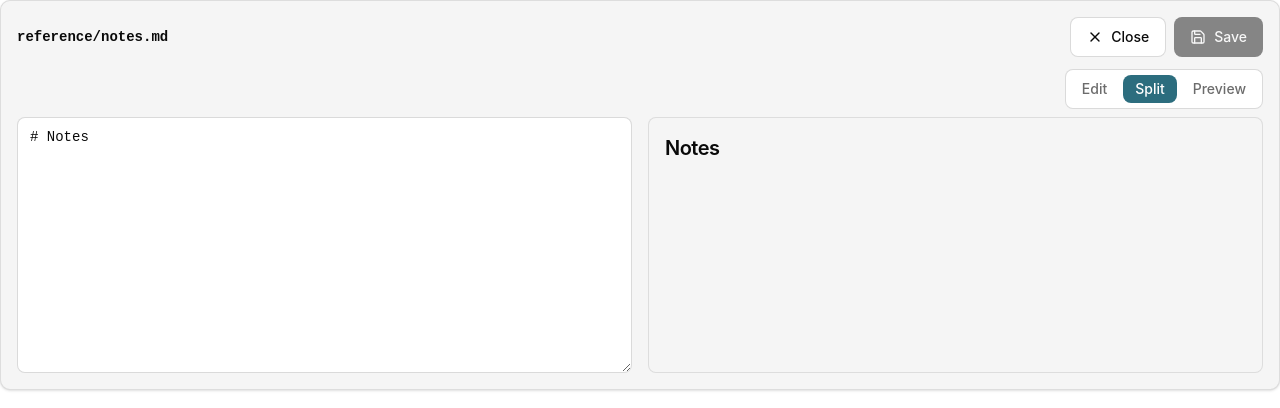
Test: SupportingFileEditor › writes the file and is clean once the write succeeds
The image size is (1280, 408).
Type "!" into the text box named "reference/notes.md".
click(324, 245); type("!")  # box x1=17 y1=117 x2=632 y2=373
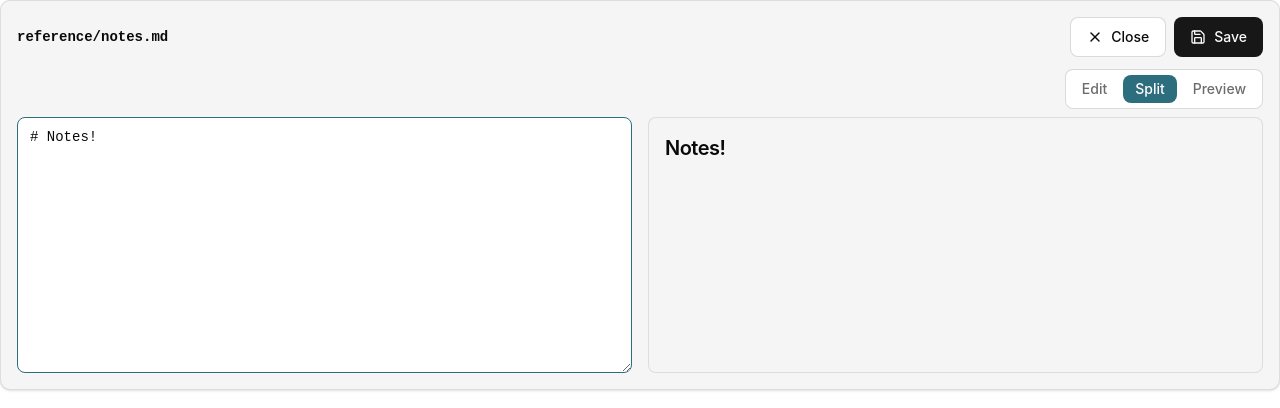
Click the button "Save".
click(1219, 37)  # box x1=1174 y1=17 x2=1263 y2=57
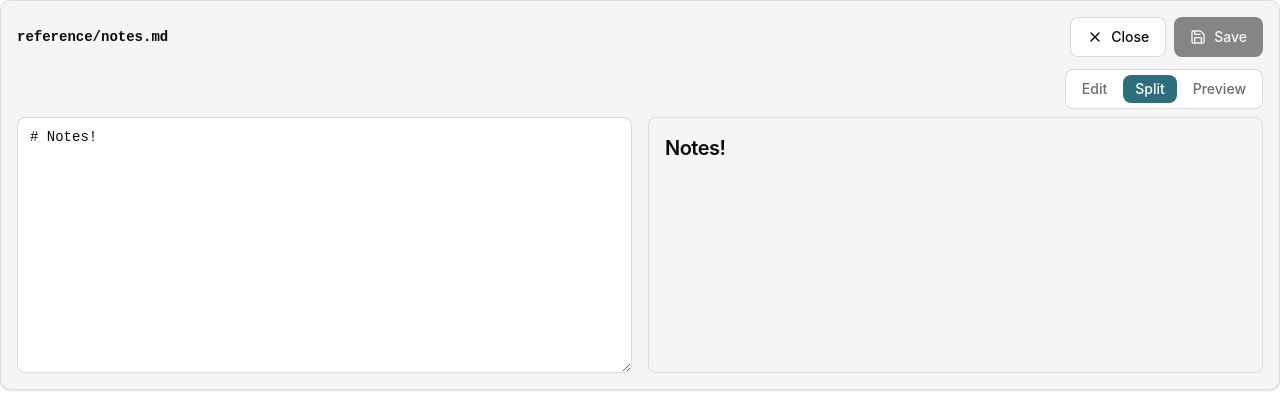
Expected: the text box named "reference/notes.md" holds "# Notes!", x1=17 y1=117 x2=632 y2=373
Expected: the button "Save" is disabled, x1=1174 y1=17 x2=1263 y2=57
